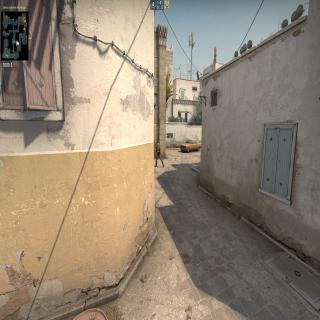T-Head: (156, 143, 160, 148)
